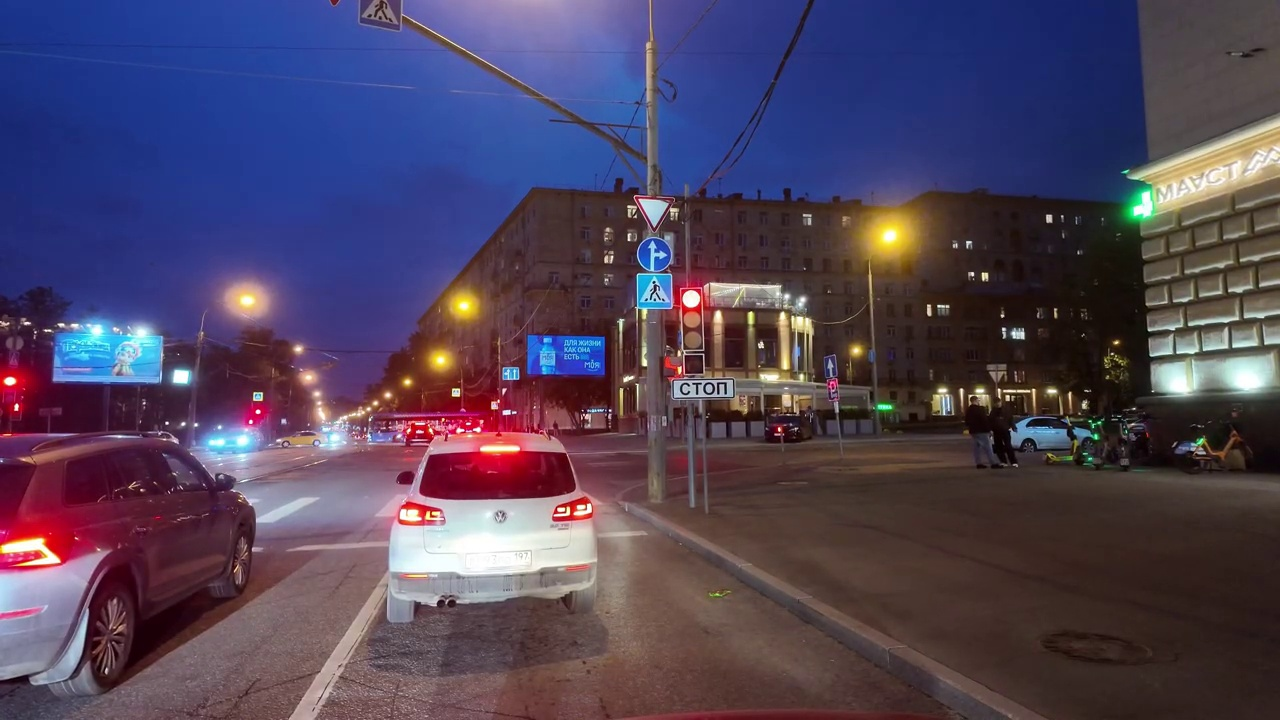acesa: (871, 220, 909, 255), (228, 285, 265, 317), (448, 290, 482, 323), (426, 346, 454, 373)
